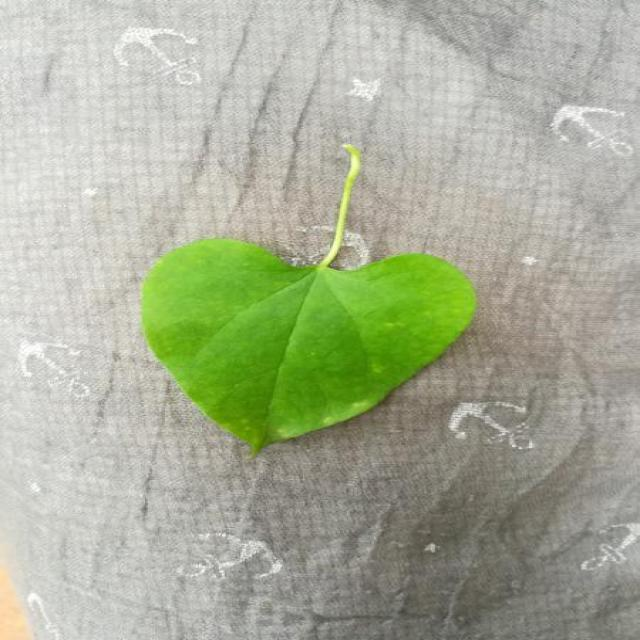Amruthaballi: (142, 239, 477, 453)
